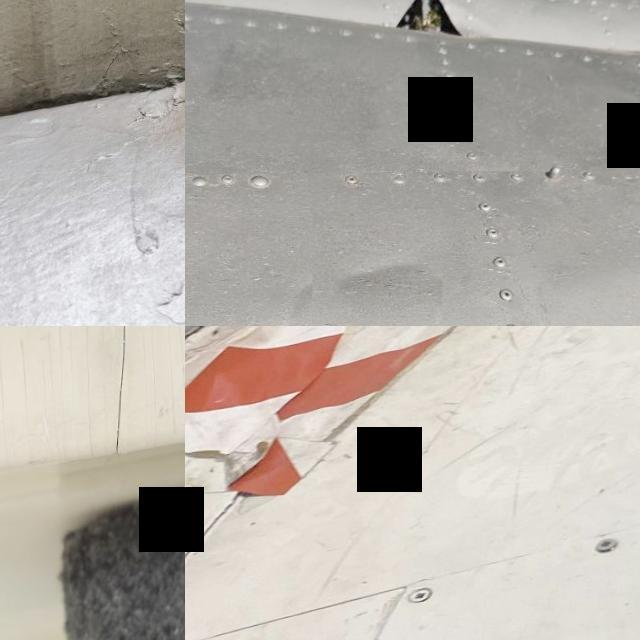Crack: (185, 326, 344, 364), (43, 326, 81, 466), (18, 332, 37, 467), (114, 326, 129, 460), (85, 326, 97, 464), (0, 341, 12, 468), (150, 326, 160, 449), (177, 326, 185, 417)
Dent: (312, 211, 444, 326), (213, 267, 365, 326)
Missing_Fastener: (185, 519, 193, 537)
